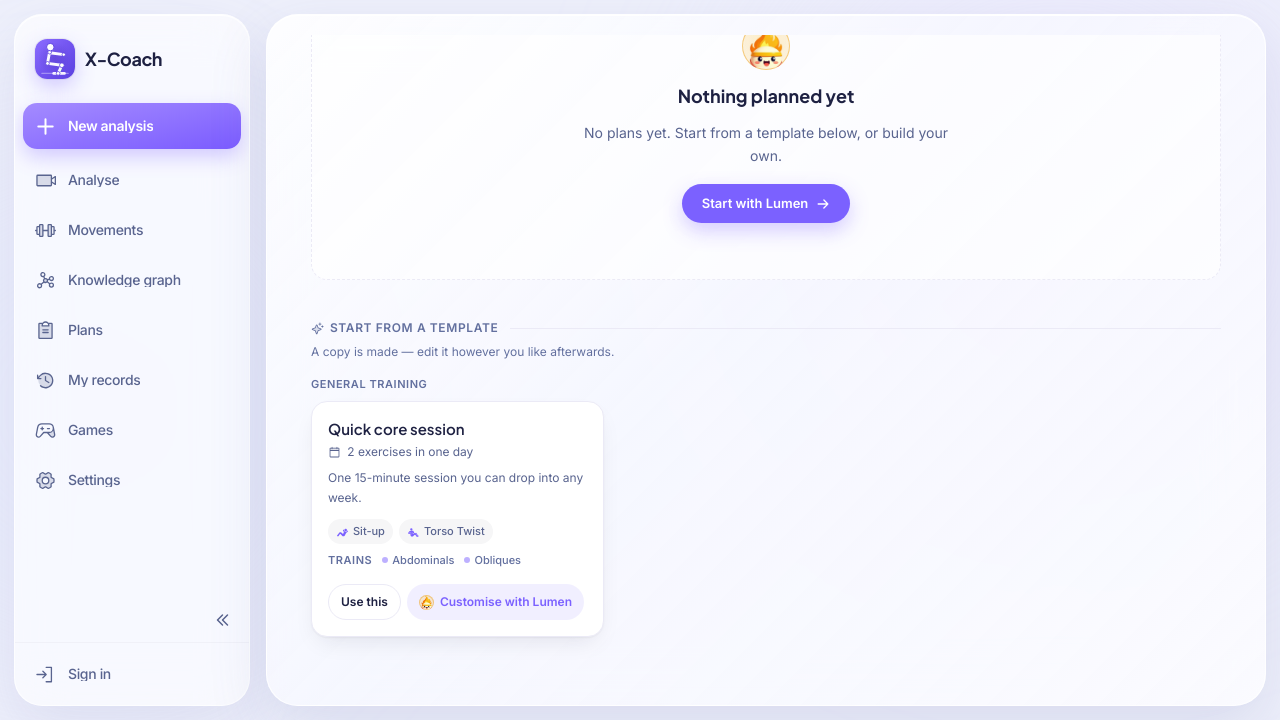
Test case: Plans — templates › opens the create dialog with the template's name prefilled
The image size is (1280, 720).
(page scrolled)
Click the button "Use this" at (364, 602), box [328, 584, 401, 620]
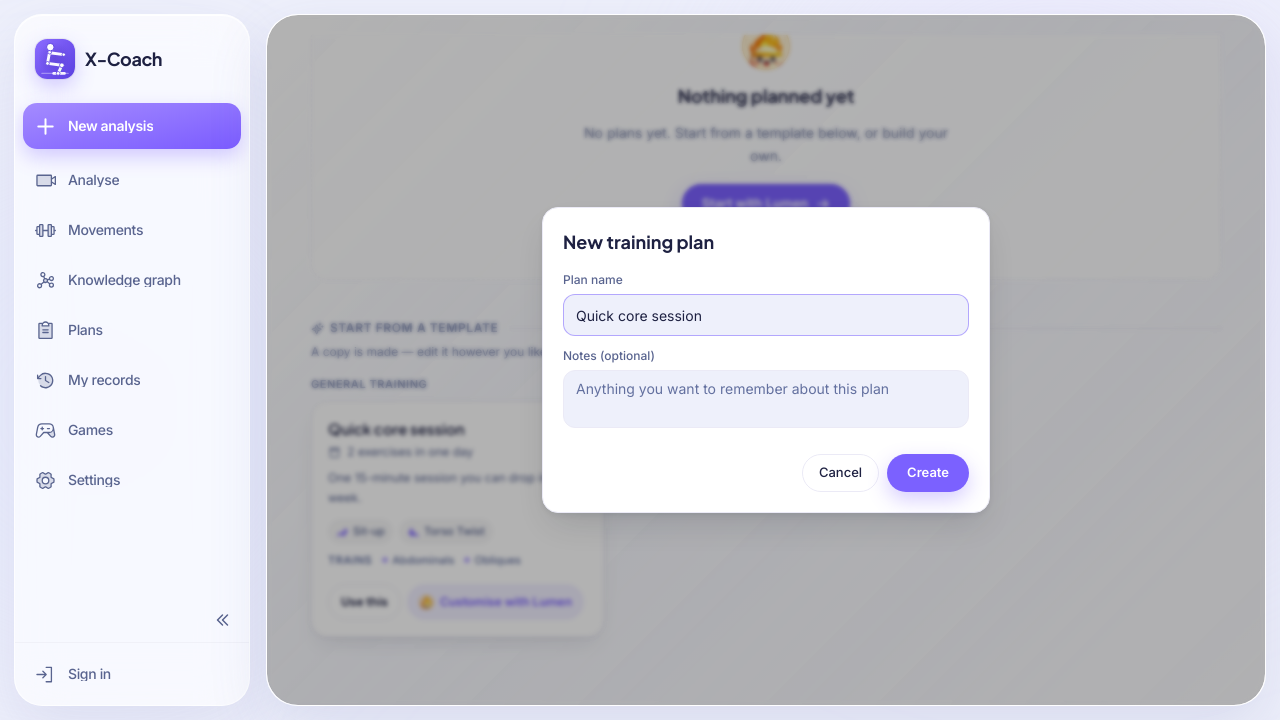
Result: the field labelled "Plan name" holds "Quick core session" at [563, 294, 969, 336]
